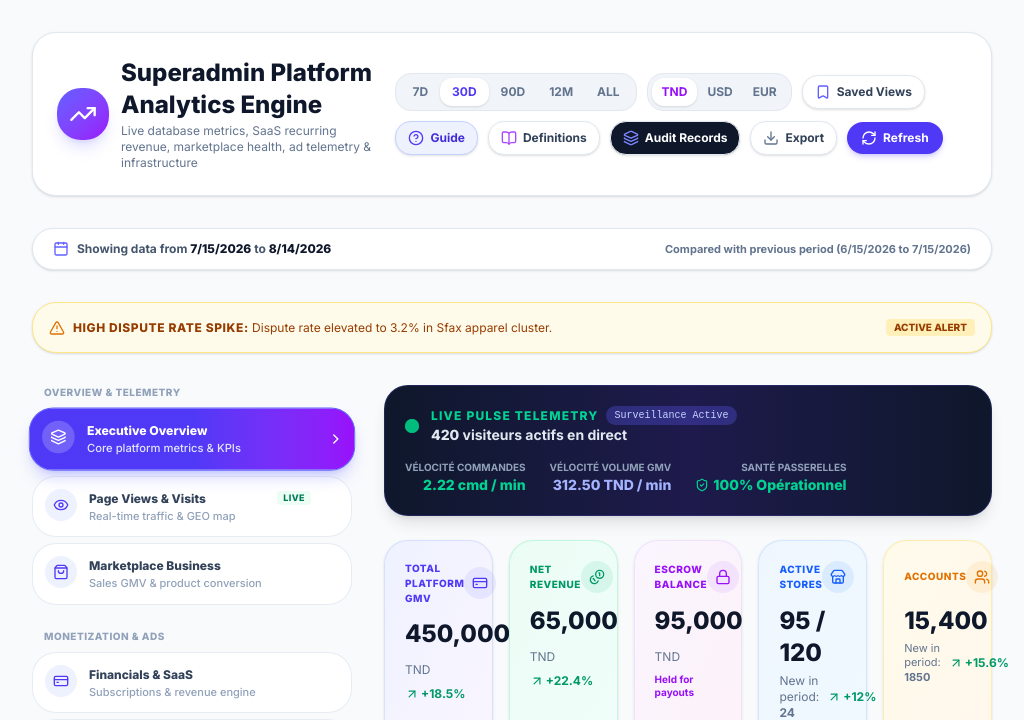
Feature 18: 10 Domain Tabs & Impeccable Glassmorphic UI (R6) › Tier 2: Boundary States & Error Handling › T2.4: displays multi-currency native TND warning badge when EUR or USD is requested
Expected: the text "Total Platform GMV" is shown, top-left (405, 561), bottom-right (464, 606)
# Switch currency to EUR
What coordinates should you click on to do the following:
click the button "EUR"
I would click on:
 (765, 92)
Its box is top-left (743, 78), bottom-right (787, 106).
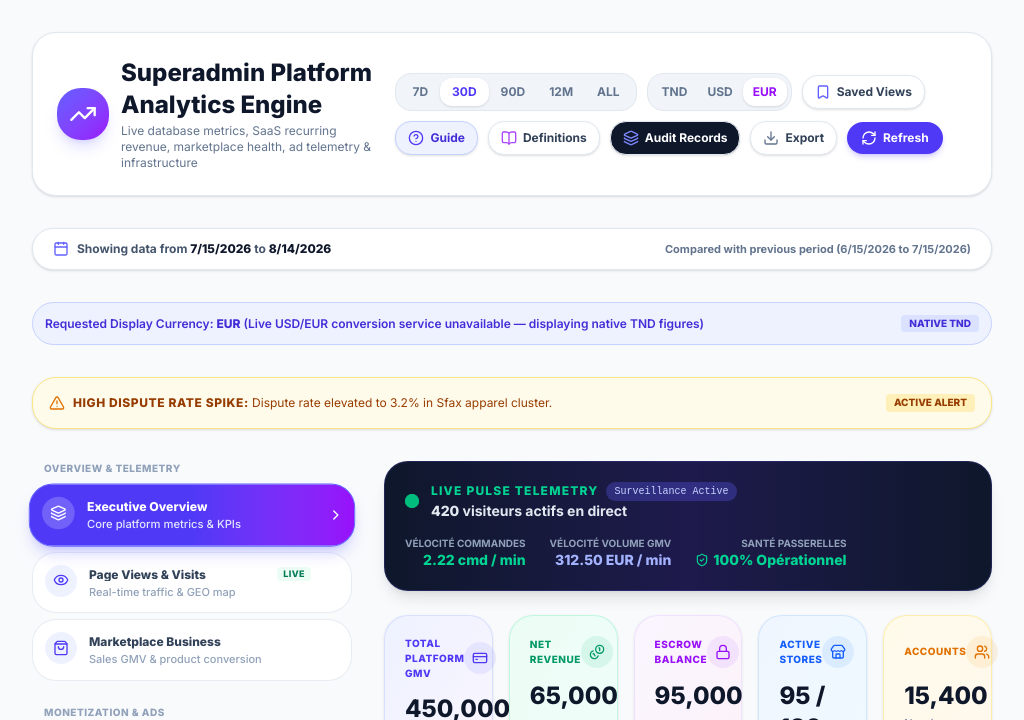
Now the text "Native TND" is shown, box top-left (901, 315), bottom-right (979, 332)
Now the text "Requested Display Currency:" is shown, box top-left (45, 316), bottom-right (216, 331)
